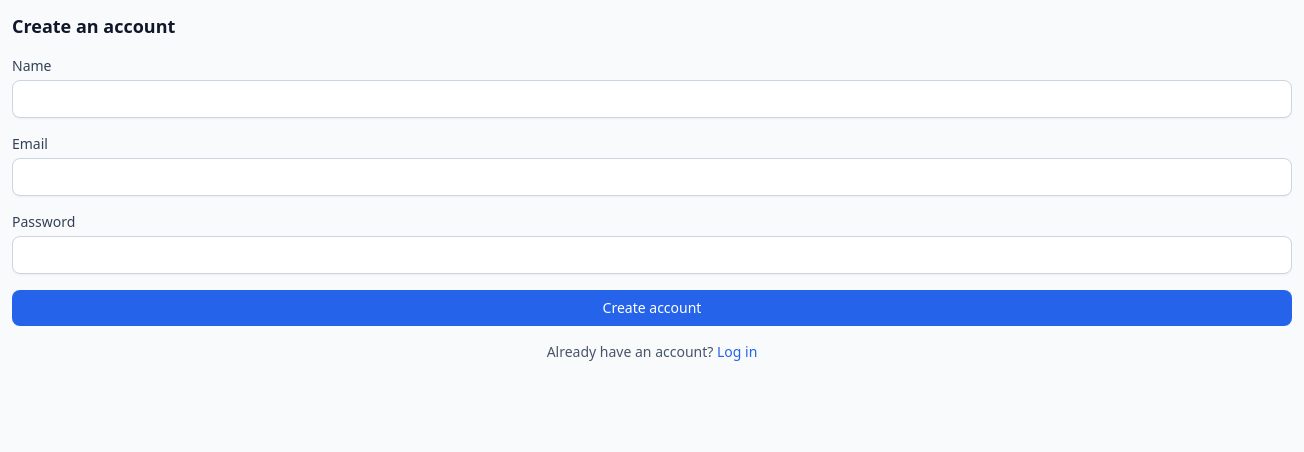
Authentication cold-start notice on slow requests › RegisterPage › a pending registration request does not leave the notice visible after unmount
The image size is (1304, 452).
Type "Jane Doe" into the field labelled "Name" at [652, 99], box x1=12 y1=80 x2=1292 y2=118
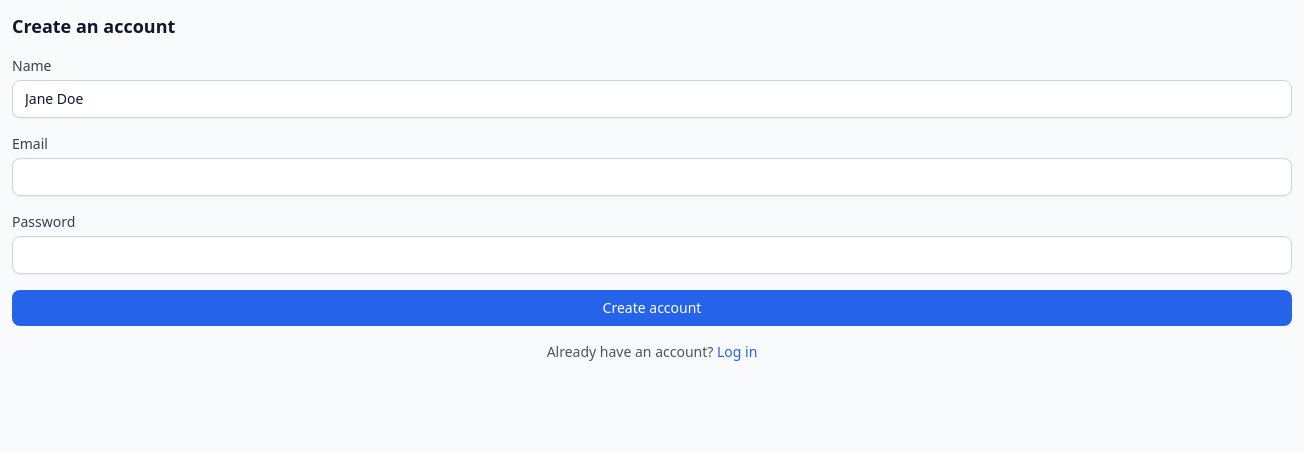
Type "jane@example.com" into the field labelled "Email" at [652, 177], box x1=12 y1=158 x2=1292 y2=196
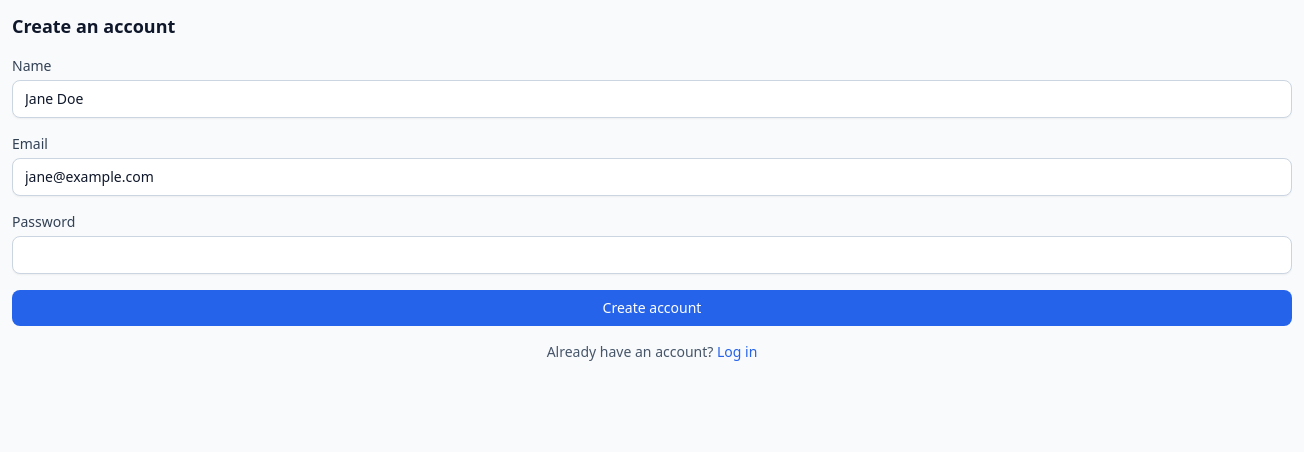
Type "password123" into the password field labelled "Password" at [652, 255], box x1=12 y1=236 x2=1292 y2=274
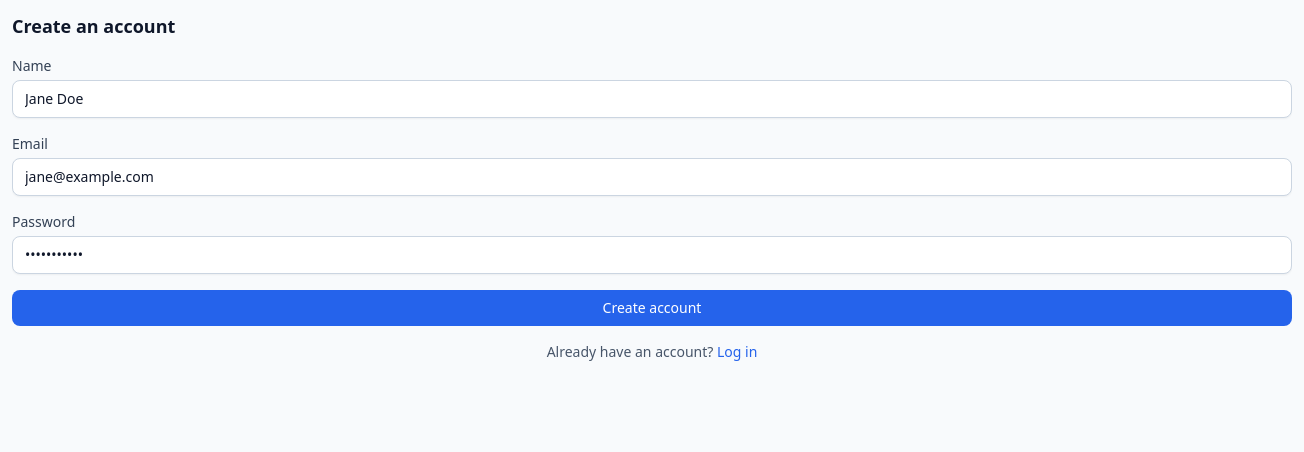
Click the button "Create account" at [652, 308], box x1=12 y1=290 x2=1292 y2=326
Wait 4100 ms
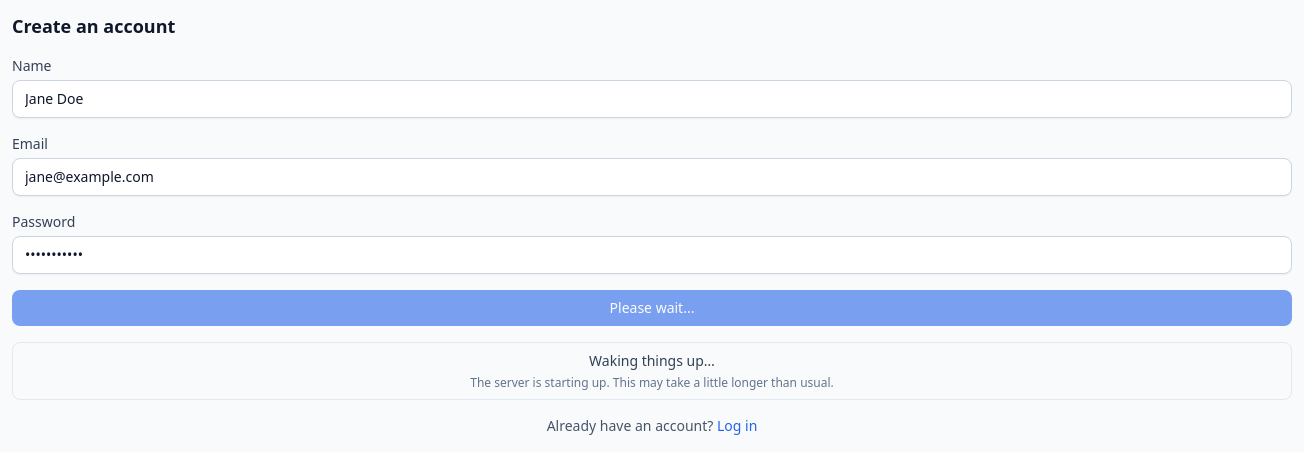
Expected: the text "Waking things up…" is shown, x1=589 y1=351 x2=715 y2=370
